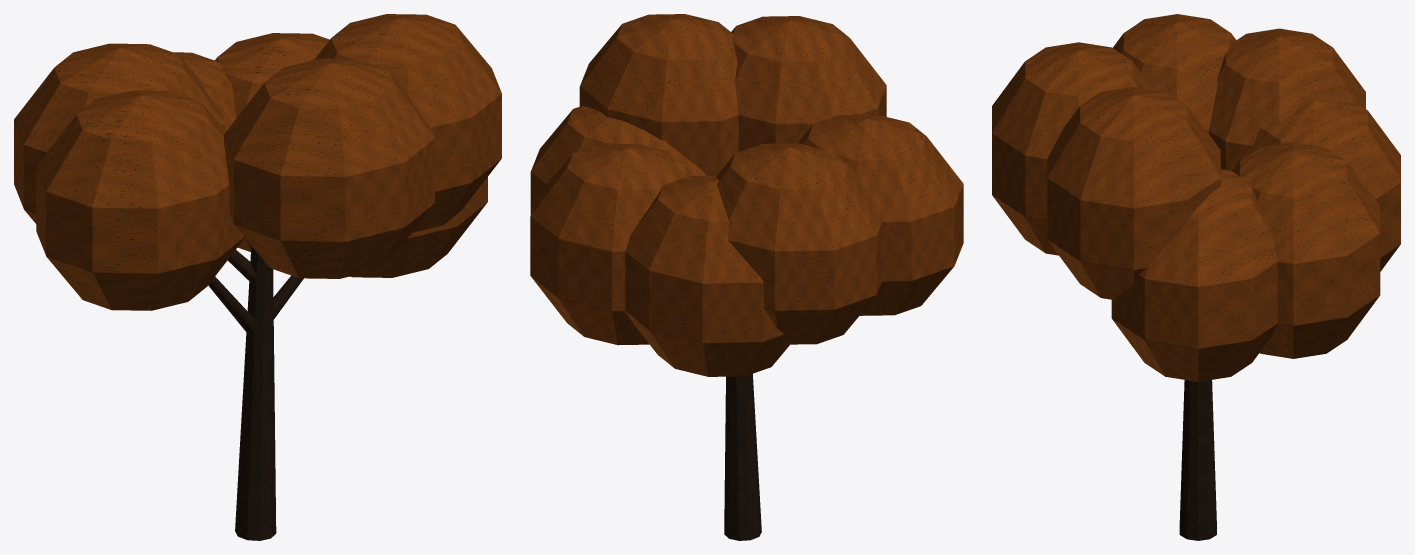
File: PROP-D74198CA5F61_lod1.glb
3 views of the same model, side by side, from view 1: azimuth 30°, elevation 25°; view 2: azimuth 150°, elevation 25°; view 3: azimuth 270°, elevation 25° (orthographic). The views are drawn at different scales.
Parts seen in each view (by area): view 1: leaf_crown.080, trunk.073, branch.045; view 2: leaf_crown.080, trunk.073; view 3: leaf_crown.080, trunk.073.
Part boxes in pixels (bbox=[...]): leaf_crown.080: bbox=[14, 14, 501, 310]; trunk.073: bbox=[235, 246, 276, 540]; branch.045: bbox=[208, 250, 303, 335]; leaf_crown.080: bbox=[530, 14, 963, 376]; trunk.073: bbox=[724, 373, 761, 540]; leaf_crown.080: bbox=[992, 14, 1400, 381]; trunk.073: bbox=[1179, 380, 1216, 540].
Size of the model in its own units: 5.89 by 6.52 by 4.96.
Materials: 2 (2 with a texture image).
